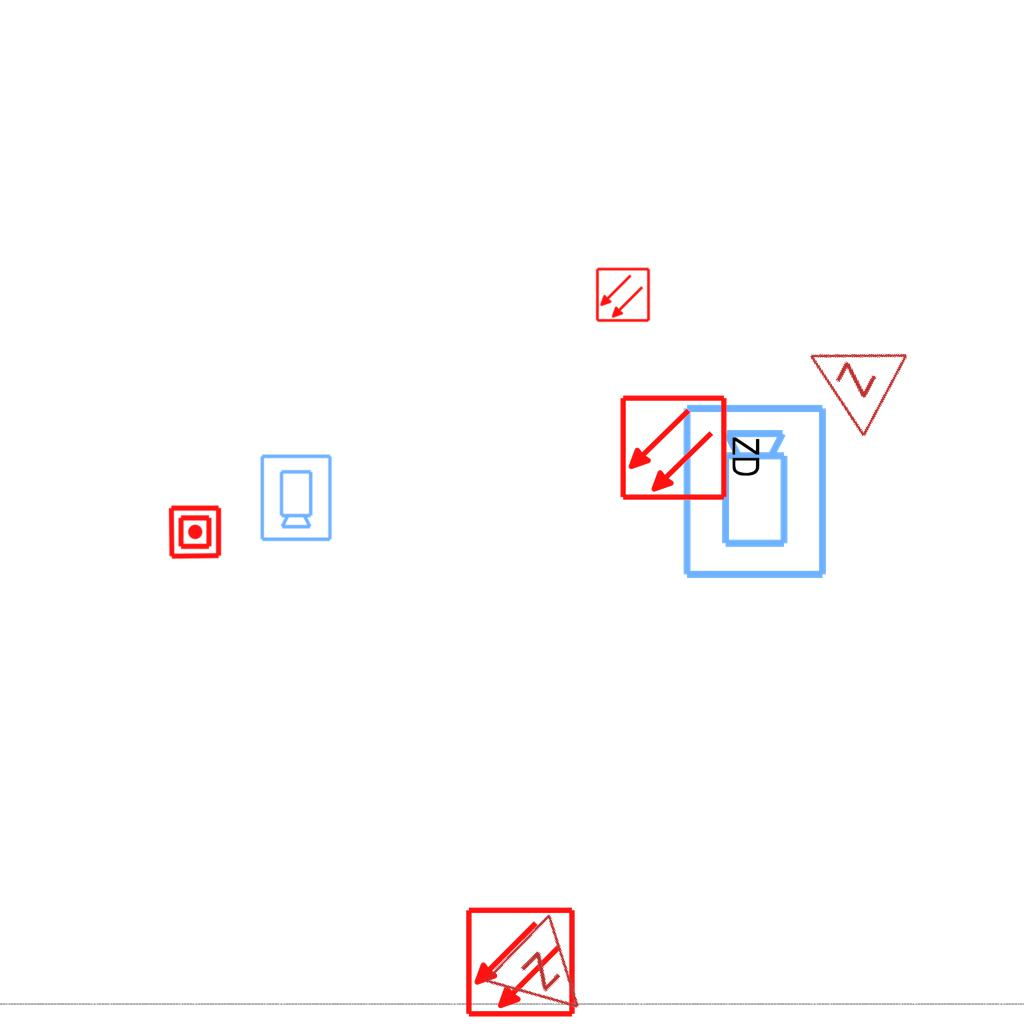KFO_Kamera_mit_Festobjektiv: (679, 401, 833, 583), (257, 452, 334, 543)
NAM-Nichtautomatischer_Melder: (167, 504, 223, 560)
RMO_Rauchmelder_optischer: (464, 906, 577, 1019), (595, 267, 651, 323)
ZD_Melder_in_Zwischendecke_mit_Revisionsoeffnung_mind_40_x_40_cm: (618, 389, 767, 503)
Zimmersignalleuchte: (780, 310, 916, 444), (477, 906, 619, 1024)
